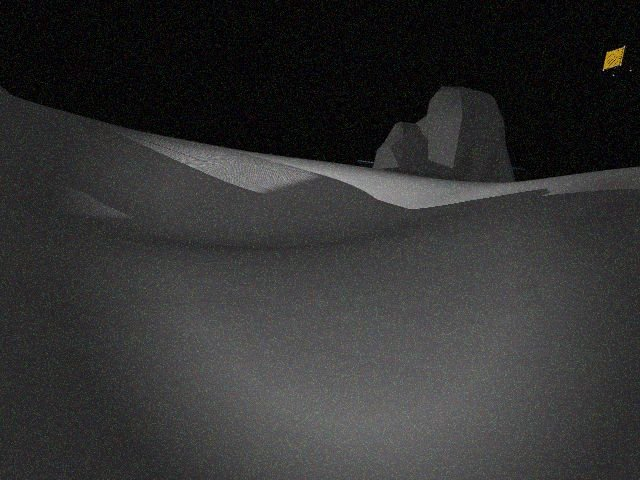cubesat: (600, 41, 640, 81)
